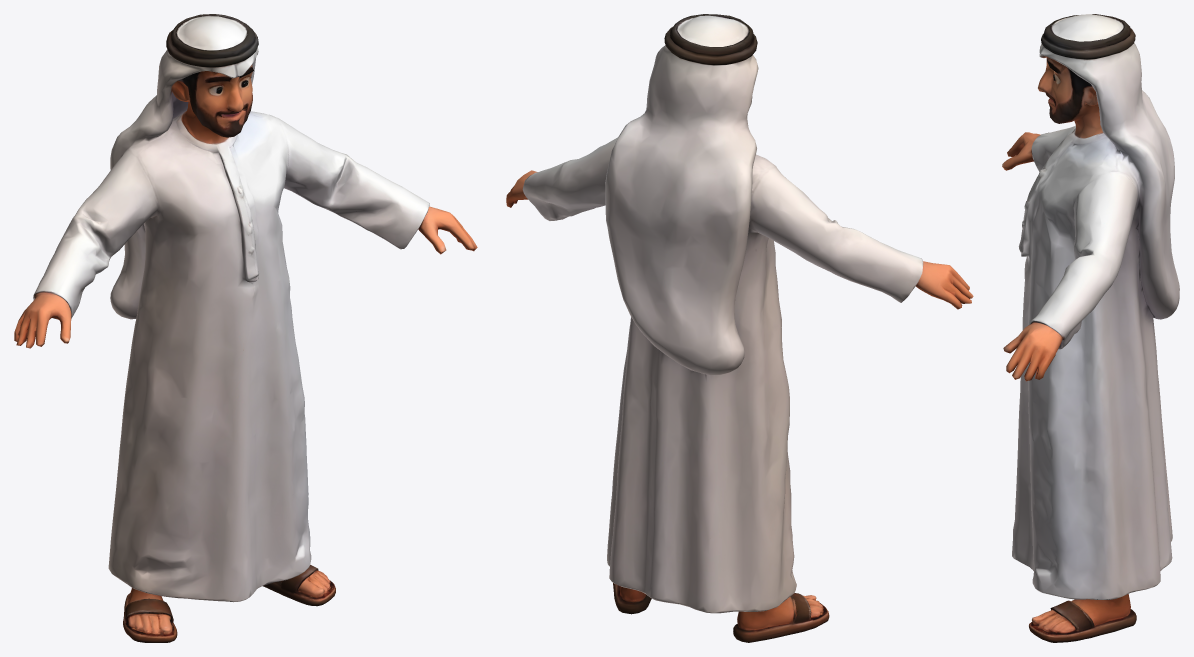
Rendered from kandura_front.glb.
3 renders of one model, left to right at view 1: azimuth 30°, elevation 25°; view 2: azimuth 150°, elevation 25°; view 3: azimuth 270°, elevation 25°, orthographic. The views are drawn at different scales.
Visible parts, largest first — view 1: tripo_node_2e85c463-557b-4499-be35-c0a12e6a3f69; view 2: tripo_node_2e85c463-557b-4499-be35-c0a12e6a3f69; view 3: tripo_node_2e85c463-557b-4499-be35-c0a12e6a3f69.
Part boxes in pixels (bbox=[...]): tripo_node_2e85c463-557b-4499-be35-c0a12e6a3f69: bbox=[14, 14, 477, 642]; tripo_node_2e85c463-557b-4499-be35-c0a12e6a3f69: bbox=[506, 14, 973, 642]; tripo_node_2e85c463-557b-4499-be35-c0a12e6a3f69: bbox=[1002, 14, 1179, 642].
Bounding box in the file's own units: 0.8172 × 1 × 0.2798.
Materials: 1 (1 with a texture image).
